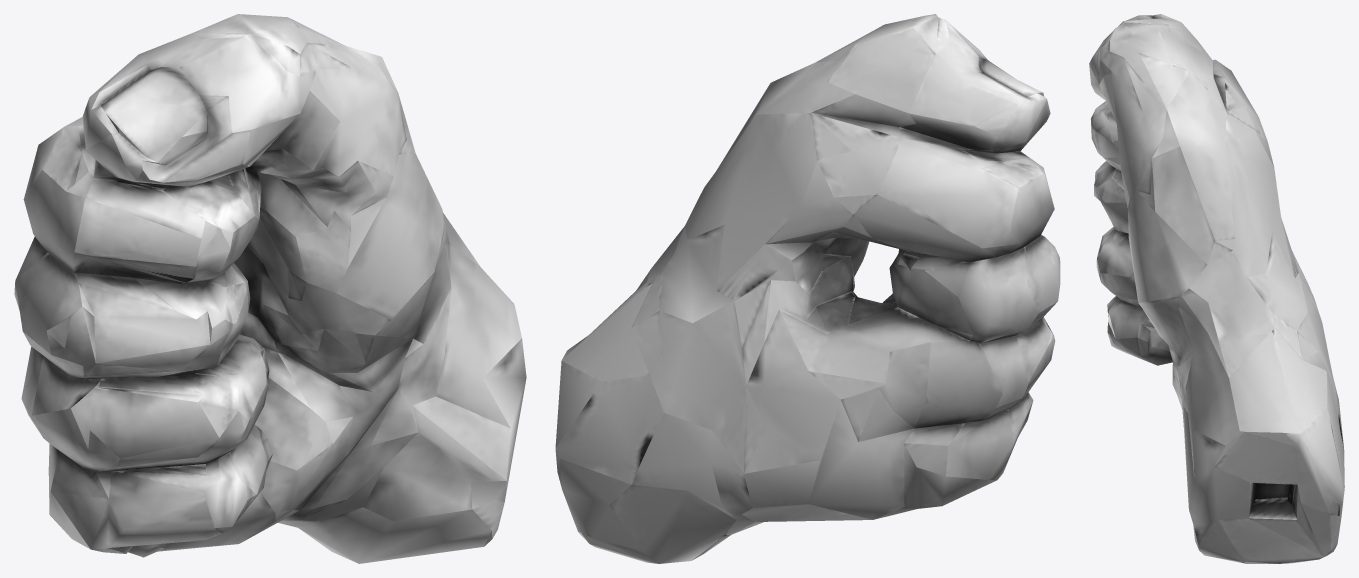
File: hand.glb
The picture shows the model from 3 angles, left to right: view 1: azimuth 30°, elevation 25°; view 2: azimuth 150°, elevation 25°; view 3: azimuth 270°, elevation 25°; orthographic projection. The views are drawn at different scales.
Bounding box in the file's own units: 0.7015 × 0.8154 × 0.4227.
Materials: 1 (1 with a texture image).
